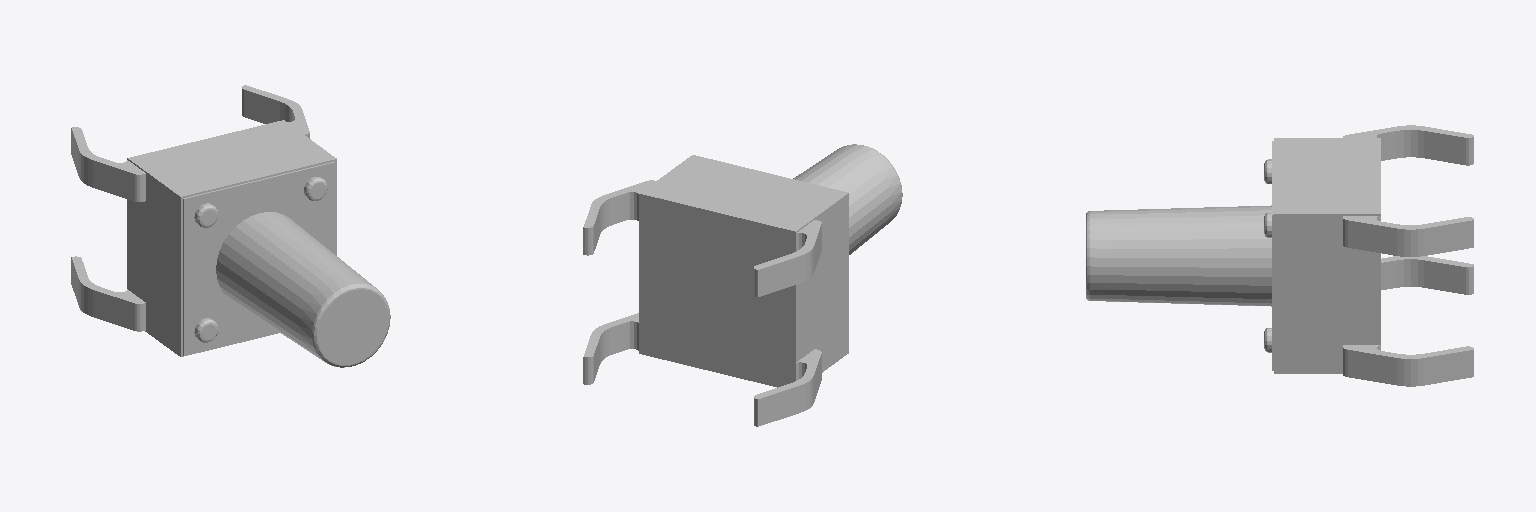
Rendered from Tactal Switch -Thru (6mmx 6mmx10.0mm).obj.
3 renders of one model, left to right at view 1: azimuth 30°, elevation 25°; view 2: azimuth 150°, elevation 25°; view 3: azimuth 270°, elevation 25°, orthographic.
Parts seen in each view (by area): view 1: Solid1; view 2: Solid1; view 3: Solid1.
Part boxes in pixels (left/top/right/bottom): Solid1: left=71, top=85, right=390, bottom=367; Solid1: left=583, top=144, right=902, bottom=426; Solid1: left=1086, top=125, right=1473, bottom=386.
Size of the model in its own units: 8.37 by 5.99 by 13.18.